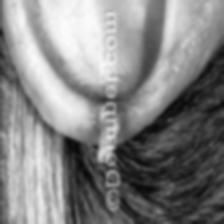Potentially Malignant Skin Tumors: (92, 113, 103, 167)
